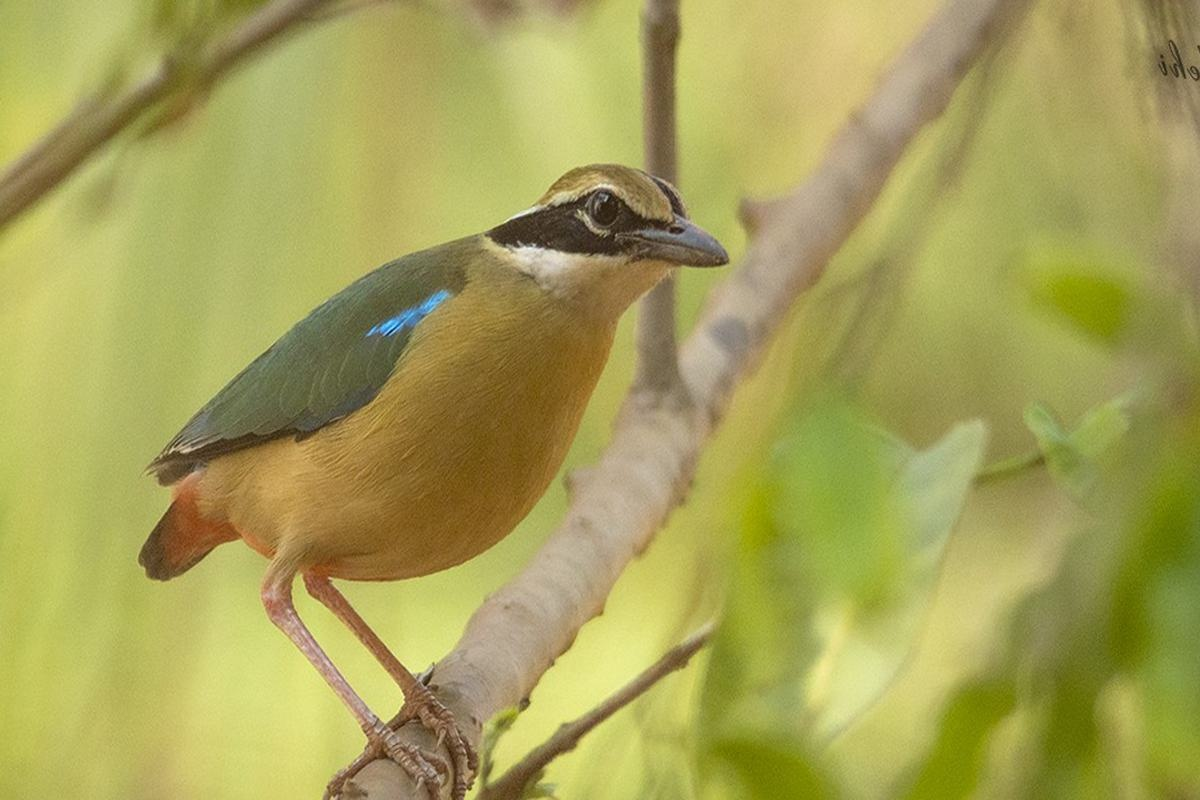pitta: (153, 148, 729, 732)
